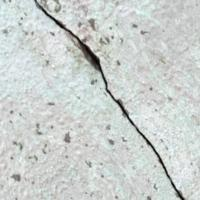crack: (35, 0, 189, 199)
